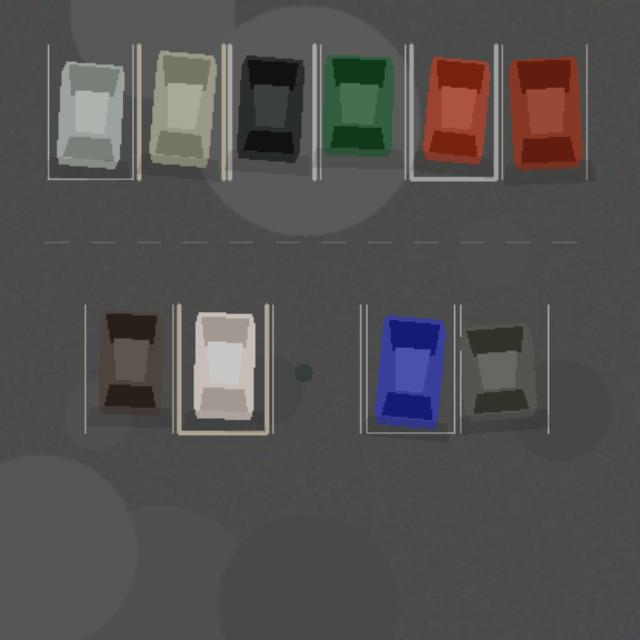space-empty: (272, 305, 360, 432)
space-occupied: (138, 45, 223, 178), (229, 45, 314, 178), (320, 45, 405, 178), (178, 305, 266, 432), (366, 305, 454, 432), (460, 305, 548, 432), (48, 45, 132, 178), (411, 45, 495, 178), (502, 45, 586, 178), (85, 305, 172, 432)
